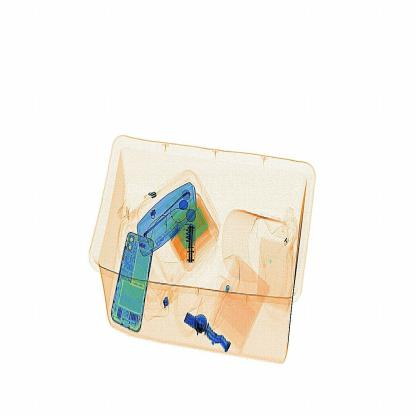scissors: (176, 213, 206, 270)
